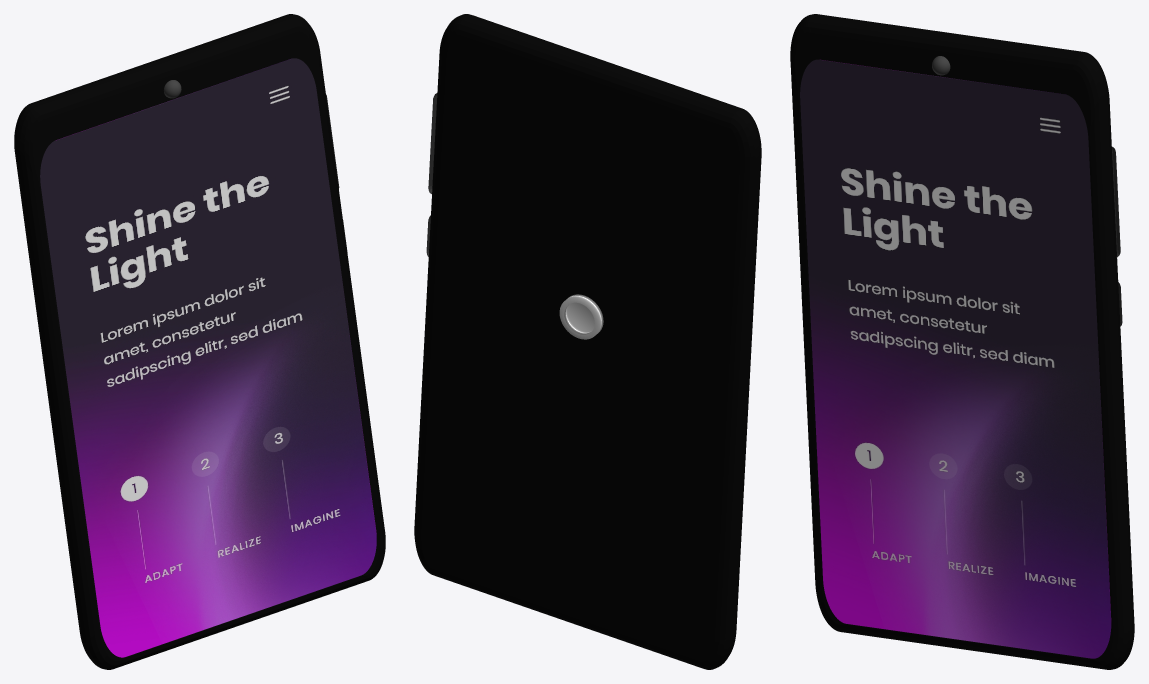
Rendered from phone.gltf.
3 renders of one model, left to right at view 1: azimuth 30°, elevation 25°; view 2: azimuth 150°, elevation 25°; view 3: azimuth 330°, elevation 25°, orthographic. The views are drawn at different scales.
Parts seen in each view (by area): view 1: Finger Print; view 2: Finger Print; view 3: Finger Print.
Part boxes in pixels (box(x1,y1,x2,y2)): Finger Print: box(14, 14, 385, 669); Finger Print: box(414, 14, 761, 669); Finger Print: box(790, 14, 1134, 669).
Size of the model in its own units: 0.3818 by 0.617 by 0.071.
5 materials, 1 textured.
